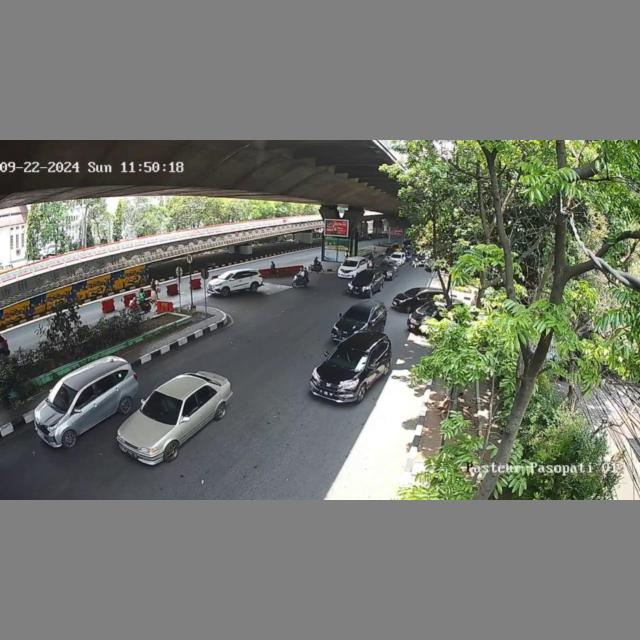windshield: (143, 389, 182, 426), (327, 346, 368, 369), (48, 381, 76, 409), (342, 308, 370, 324), (341, 260, 359, 268), (355, 272, 373, 280)
